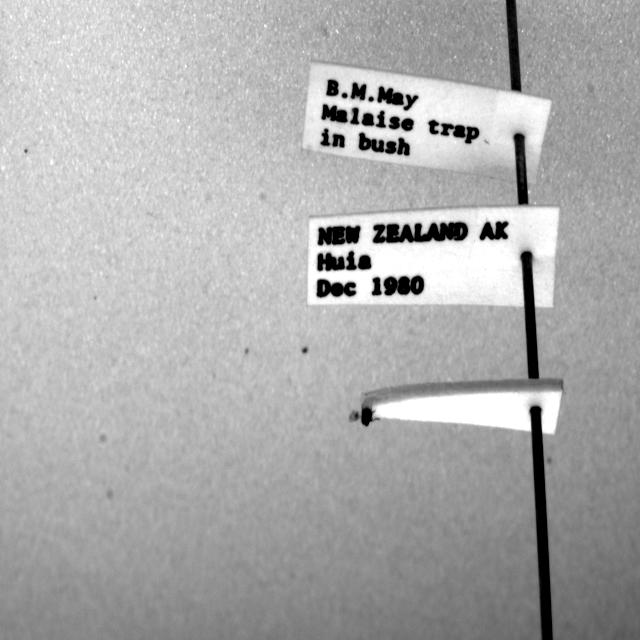typed_label: (302, 62, 551, 184), (308, 204, 559, 308)
